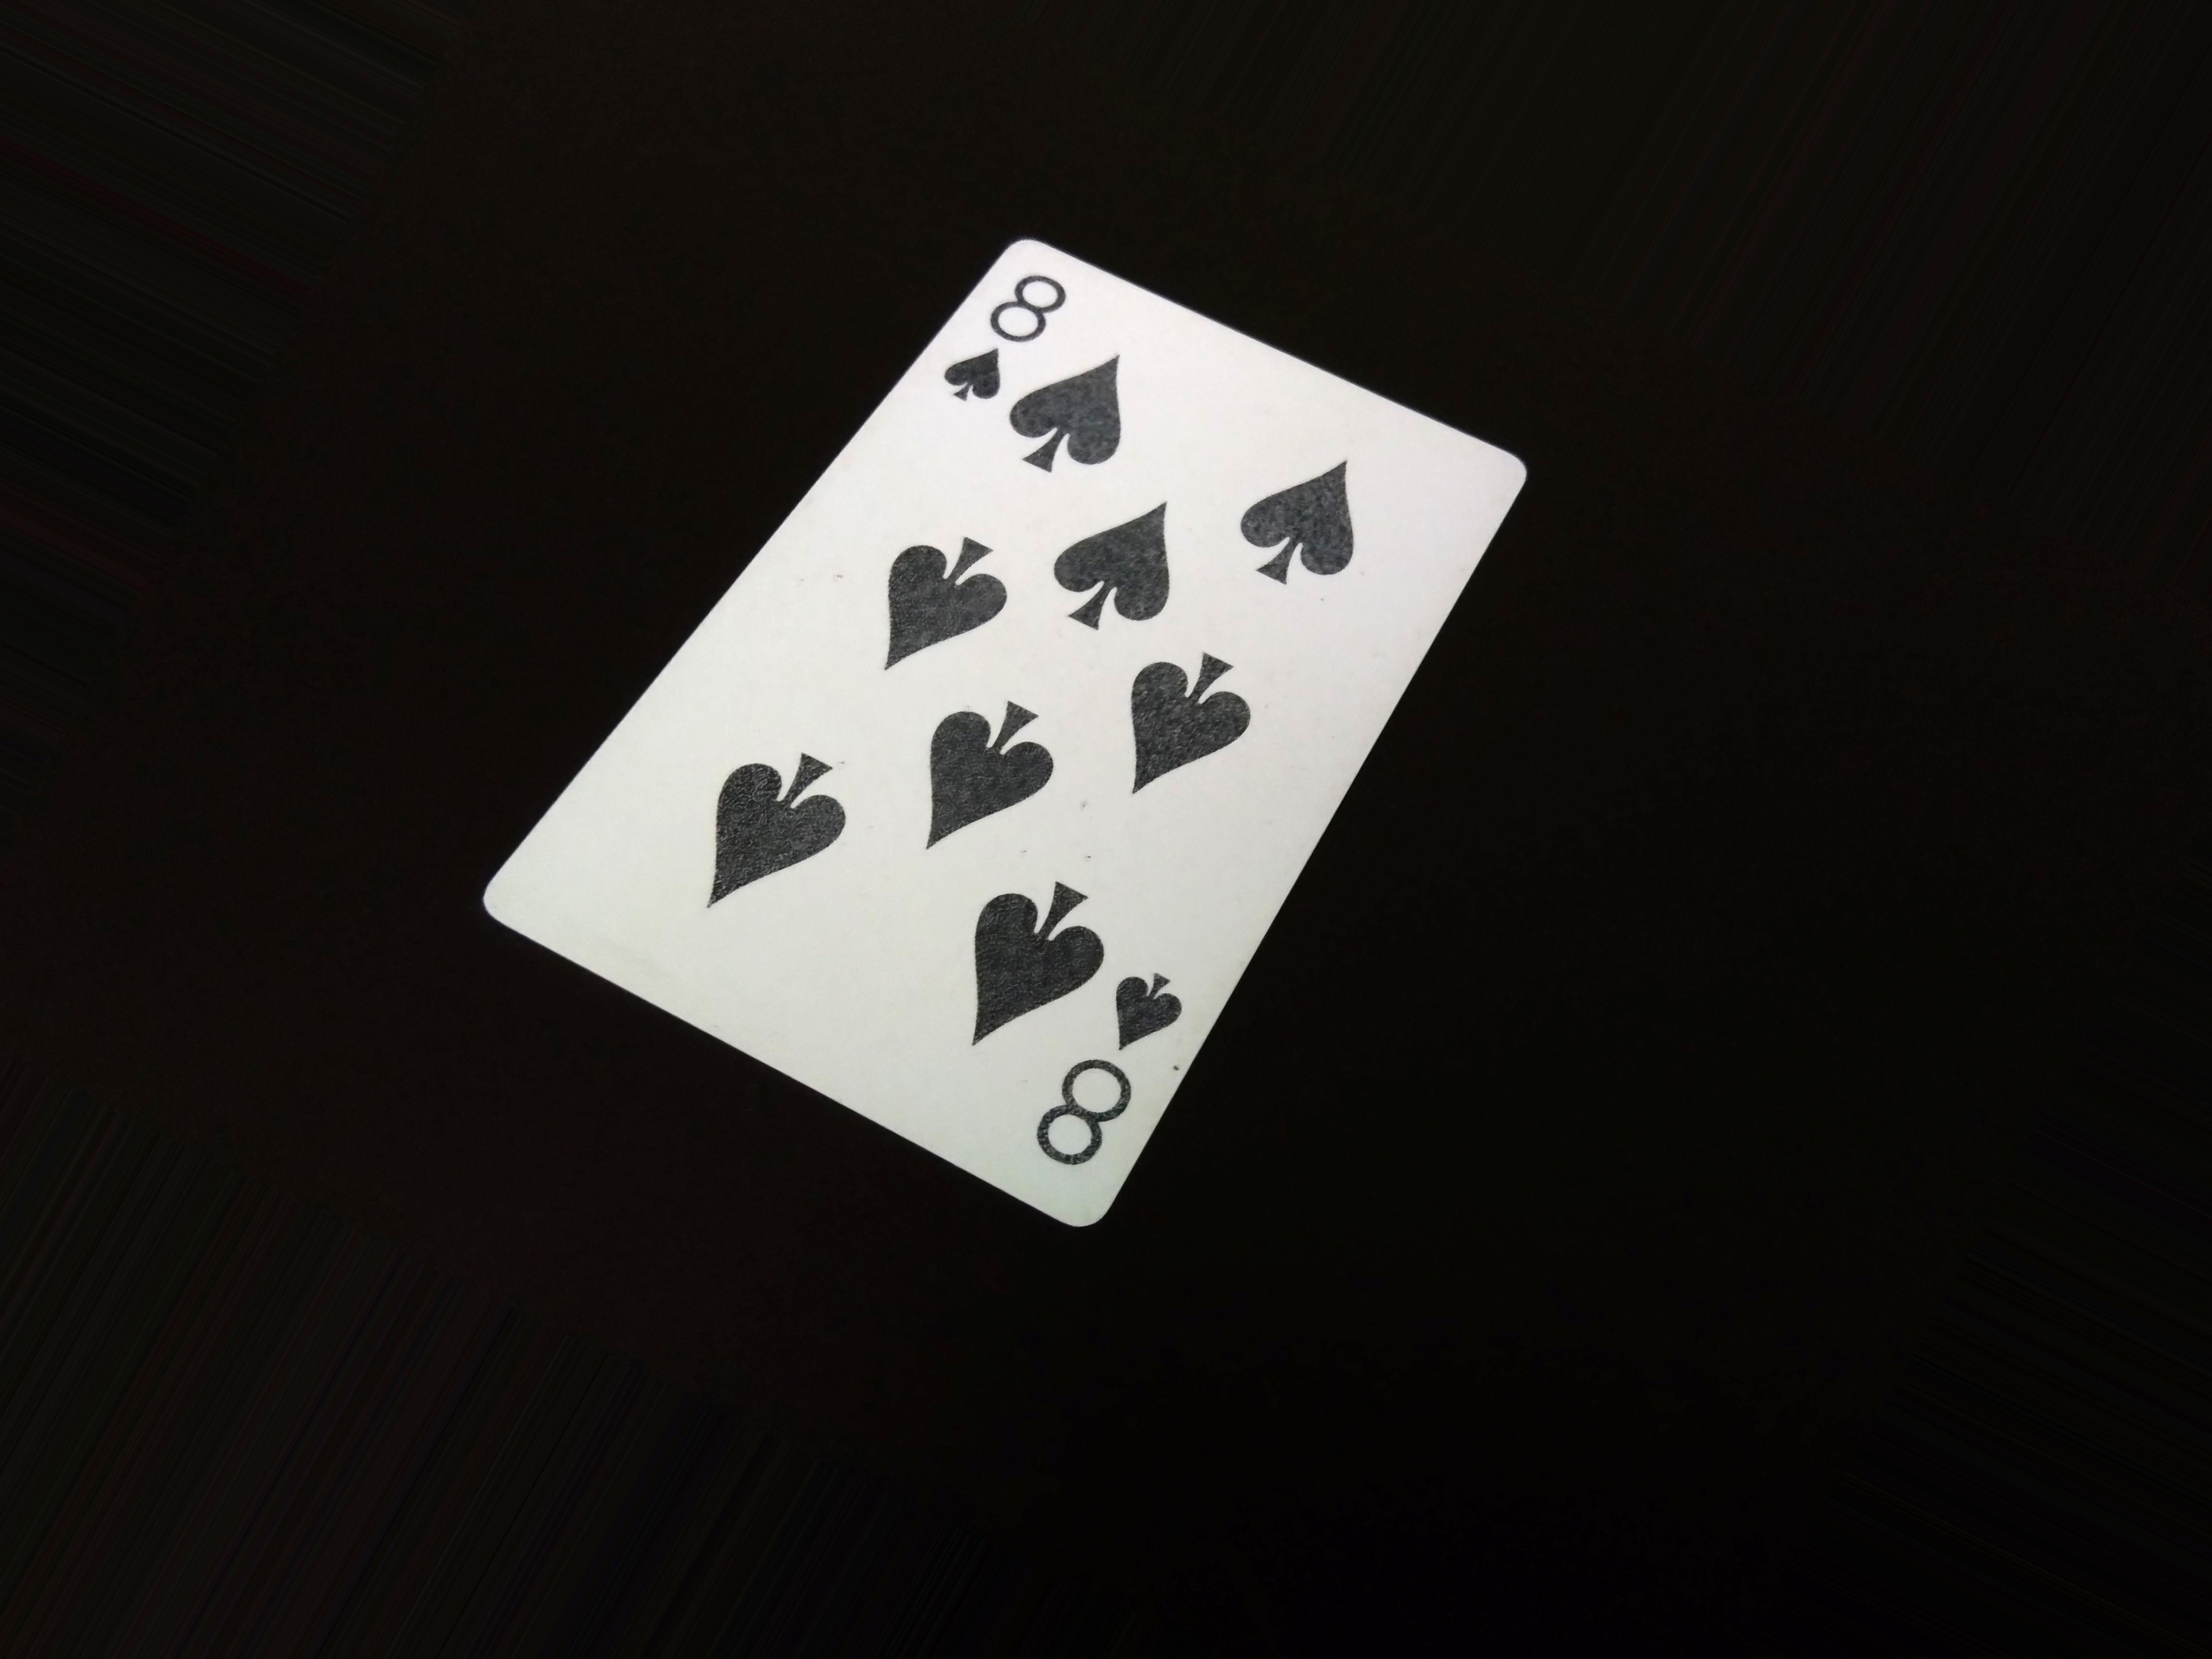8S: (934, 260, 1083, 436)
